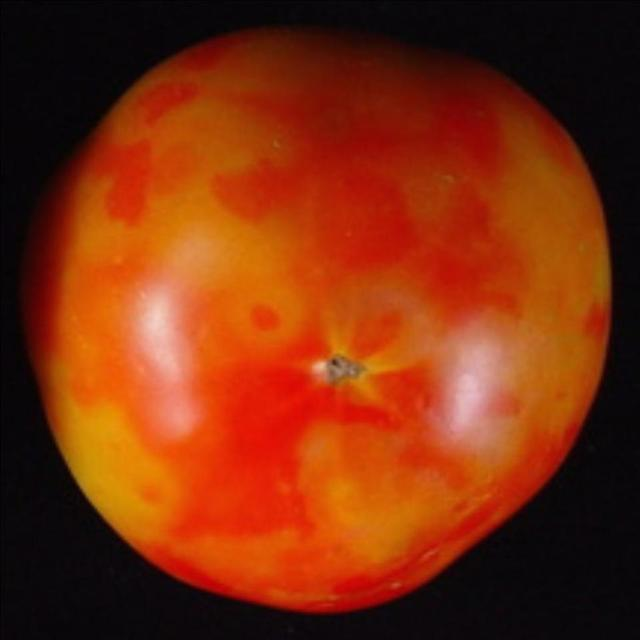Spotted wilt Virus Fruit: (120, 209, 422, 583)
